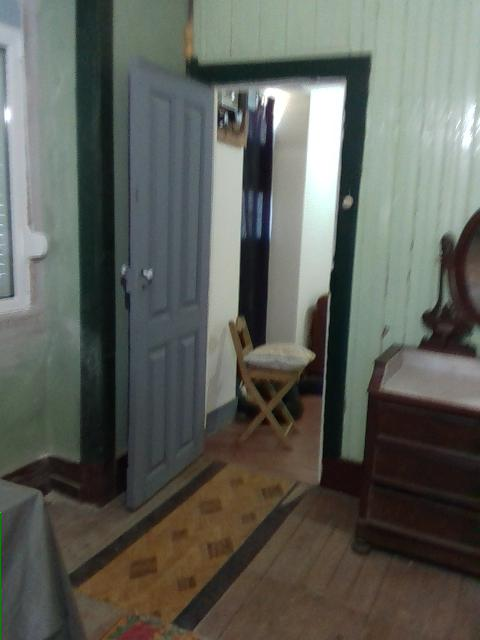open_door: (184, 50, 372, 456)
